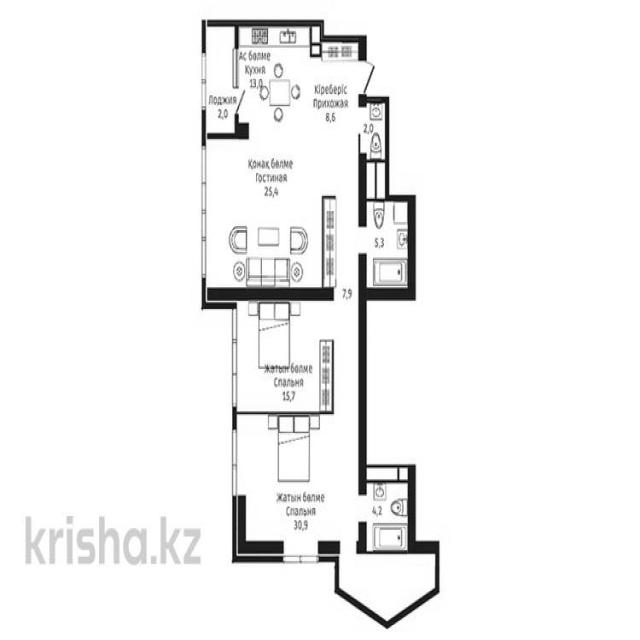balcony: (204, 23, 237, 136)
bathroom: (366, 202, 414, 294), (362, 479, 411, 552), (361, 100, 386, 160)
hallway: (324, 42, 359, 414)
living_room: (235, 416, 359, 552), (234, 299, 333, 411)
studio: (205, 25, 332, 292)
